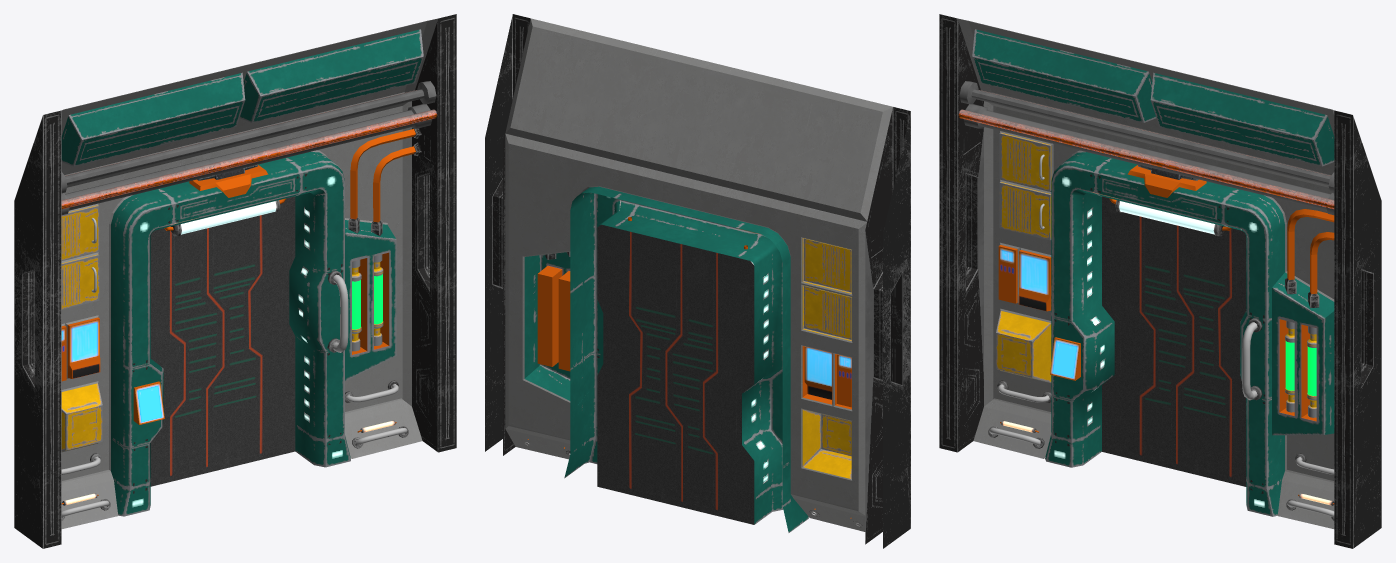
The model's file is door.glb.
3 views of the same model, side by side, from view 1: azimuth 30°, elevation 25°; view 2: azimuth 150°, elevation 25°; view 3: azimuth 330°, elevation 25° (orthographic). The views are drawn at different scales.
Visible parts, largest first — view 1: Door_L001, DoorFrame_L001, Wall_L001, WallBorderLeft_L001, WallBorderRight_L001, RoofBoxLeft_L001, RoofBoxRight_L001, CoreBox_L001, BigPipeTop_L001, SmallPipeBottom_L001, BigPipeBottom_L001, WallStorageBox_L001 (+11 smaller); view 2: Wall_L001, Door_L001, DoorFrame_L001, WallBorderLeft_L001, WallBorderRight_L001, CoreBox_L001, WallStorageBox_L001, StorageBottom_L001, StorageTop_L001, Keypad_L001, KeypadControls_L001; view 3: Door_L001, DoorFrame_L001, Wall_L001, WallBorderRight_L001, WallBorderLeft_L001, RoofBoxRight_L001, RoofBoxLeft_L001, CoreBox_L001, BigPipeTop_L001, SmallPipeBottom_L001, BigPipeBottom_L001, WallStorageBox_L001 (+12 smaller).
Part boxes in pixels (x1,y1,x2,y2): Door_L001: (150, 196, 295, 486); DoorFrame_L001: (111, 151, 350, 516); Wall_L001: (61, 18, 437, 528); WallBorderLeft_L001: (14, 110, 61, 548); WallBorderRight_L001: (412, 14, 456, 452); RoofBoxLeft_L001: (61, 72, 245, 166); RoofBoxRight_L001: (239, 29, 423, 122); CoreBox_L001: (345, 220, 396, 380); BigPipeTop_L001: (61, 81, 436, 193); SmallPipeBottom_L001: (61, 109, 437, 209); BigPipeBottom_L001: (61, 104, 432, 215); WallStorageBox_L001: (61, 383, 102, 451); Wall_L001: (505, 18, 892, 531); Door_L001: (597, 224, 754, 524); DoorFrame_L001: (564, 186, 808, 532); WallBorderLeft_L001: (865, 107, 910, 548); WallBorderRight_L001: (485, 14, 530, 455); CoreBox_L001: (524, 252, 582, 404); WallStorageBox_L001: (802, 409, 851, 478); StorageBottom_L001: (802, 285, 851, 340); StorageTop_L001: (802, 238, 851, 293); Keypad_L001: (802, 346, 832, 404); KeypadControls_L001: (835, 354, 851, 409); Door_L001: (1102, 196, 1246, 486); DoorFrame_L001: (1045, 152, 1284, 516); Wall_L001: (958, 18, 1334, 528); WallBorderRight_L001: (1334, 110, 1381, 548); WallBorderLeft_L001: (939, 14, 983, 452); RoofBoxRight_L001: (1150, 72, 1334, 166); RoofBoxLeft_L001: (972, 29, 1156, 122); CoreBox_L001: (1272, 272, 1334, 435); BigPipeTop_L001: (959, 81, 1334, 193); SmallPipeBottom_L001: (958, 109, 1334, 209); BigPipeBottom_L001: (963, 104, 1334, 215); WallStorageBox_L001: (996, 311, 1051, 382).
Bounding box in the file's own units: 3.25 × 3.25 × 0.5416.
1 material, 1 textured.
